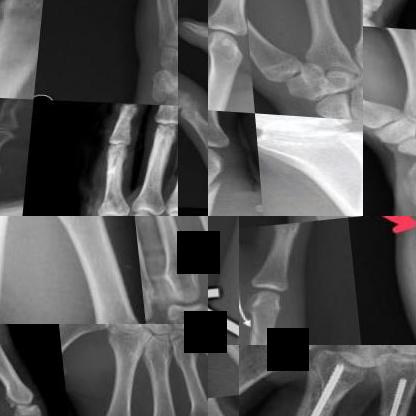fracture: (273, 358, 357, 415), (356, 373, 415, 415), (208, 166, 234, 215), (243, 320, 275, 344), (407, 216, 415, 283), (165, 0, 178, 28), (348, 0, 363, 23)
